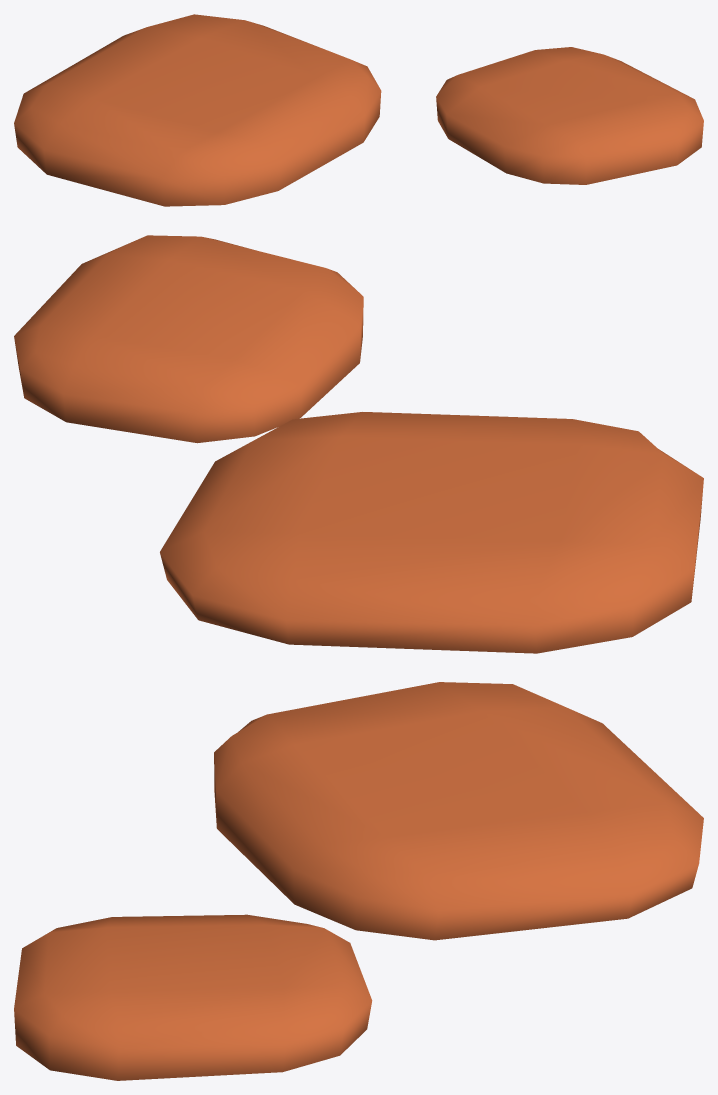
File: rocks_2.obj
3 renders of one model, top to bottom at view 1: azimuth 30°, elevation 25°; view 2: azimuth 150°, elevation 25°; view 3: azimuth 270°, elevation 25°, orthographic. The views are drawn at different scales.
Visible parts, largest first — view 1: rocks_2; view 2: rocks_2; view 3: rocks_2.
Part boxes in pixels (x1,y1,x2,y2): rocks_2: (14, 14, 703, 206); rocks_2: (14, 235, 703, 653); rocks_2: (14, 682, 703, 1080).
Bounding box in the file's own units: 1.37 × 0.1115 × 1.11.
